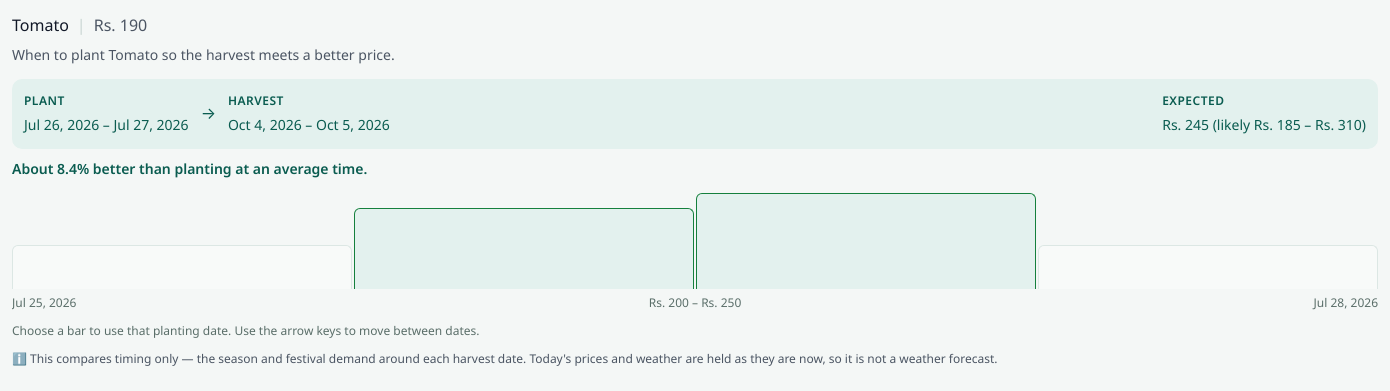
Test: BestWindowPanel — the bar tooltip › shows date AND price on hover, because the choice is being made on price
This screenshot has width=1390, height=391.
Expected: the text "Plant Jul 27, 2026" is not shown
Hover over the button named "Plant Jul 27, 2026" at (866, 241), box left=696, top=193, right=1036, bottom=289
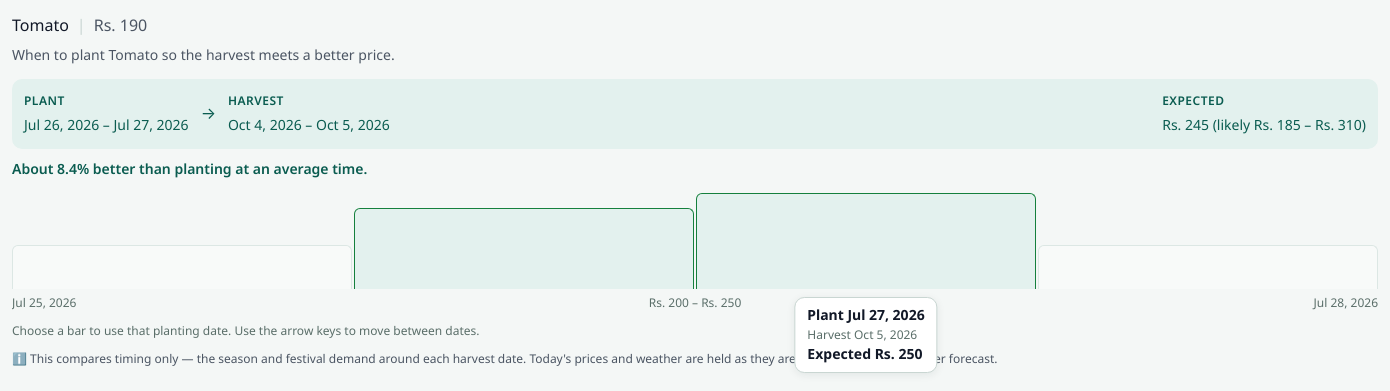
Expected: the text "Plant Jul 27, 2026" is shown, left=807, top=306, right=925, bottom=325
Expected: the text "Harvest Oct 5, 2026" is shown, left=807, top=327, right=925, bottom=343
Expected: the text "Expected Rs. 250" is shown, left=807, top=345, right=925, bottom=364
Move the pointer off the button named "Plant Jul 27, 2026", box left=696, top=193, right=1036, bottom=289
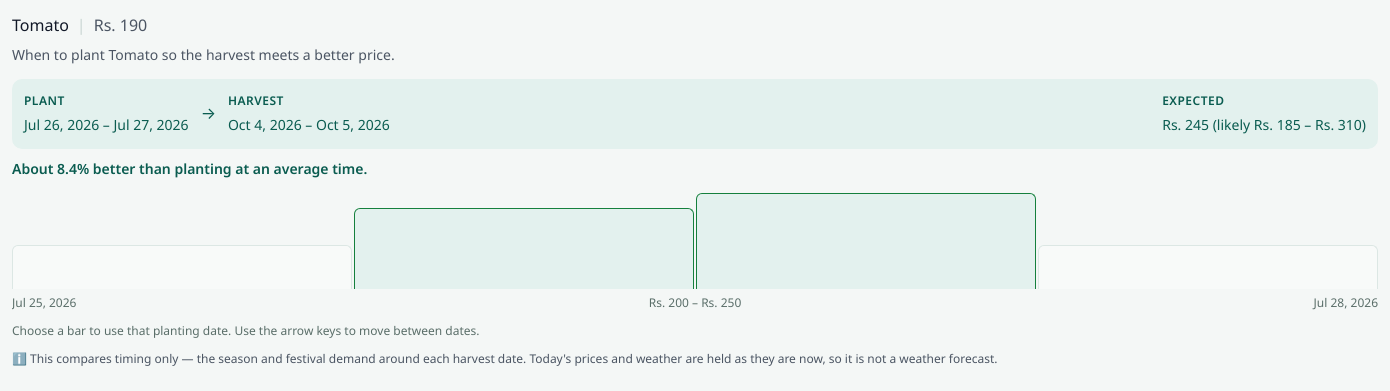
Expected: the text "Plant Jul 27, 2026" is gone
